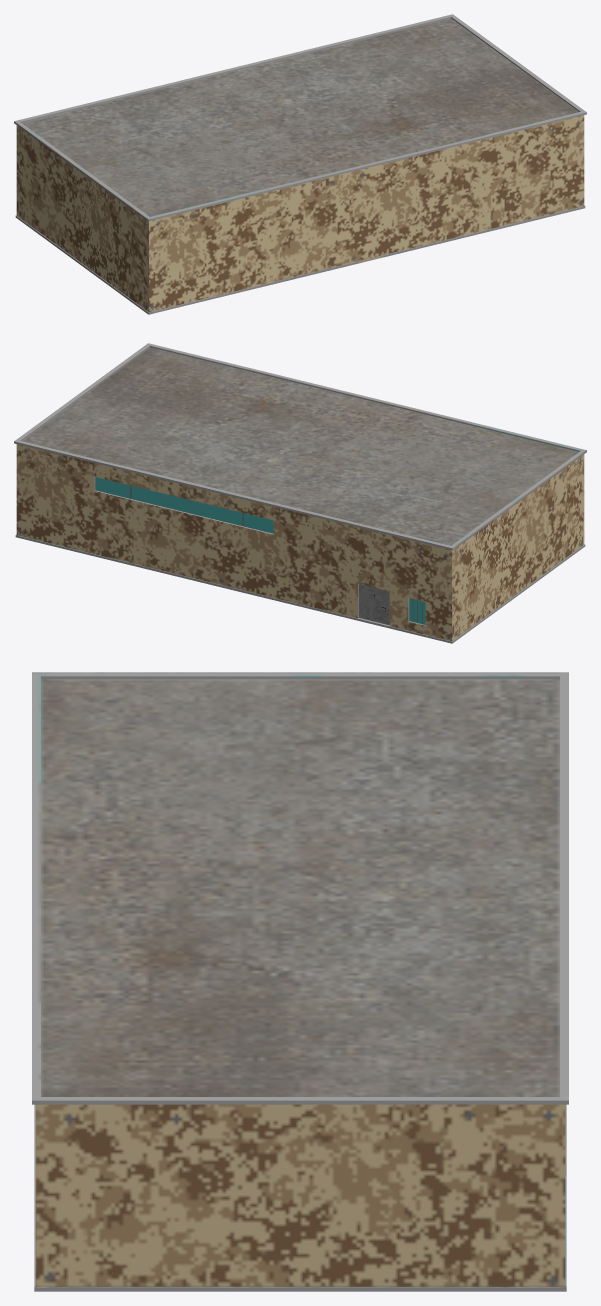
The model's file is stels_house.glb.
3 renders of one model, top to bottom at view 1: azimuth 30°, elevation 25°; view 2: azimuth 150°, elevation 25°; view 3: azimuth 270°, elevation 25°, orthographic. The views are drawn at different scales.
Visible parts, largest first — view 1: Box001; view 2: Box001; view 3: Box001.
Part boxes in pixels (<box>): Box001: <box>14,14,586,314</box>; Box001: <box>14,343,586,643</box>; Box001: <box>32,672,568,1291</box>.
Size of the model in its own units: 4.86 by 1.02 by 2.58.
1 material, 1 textured.
